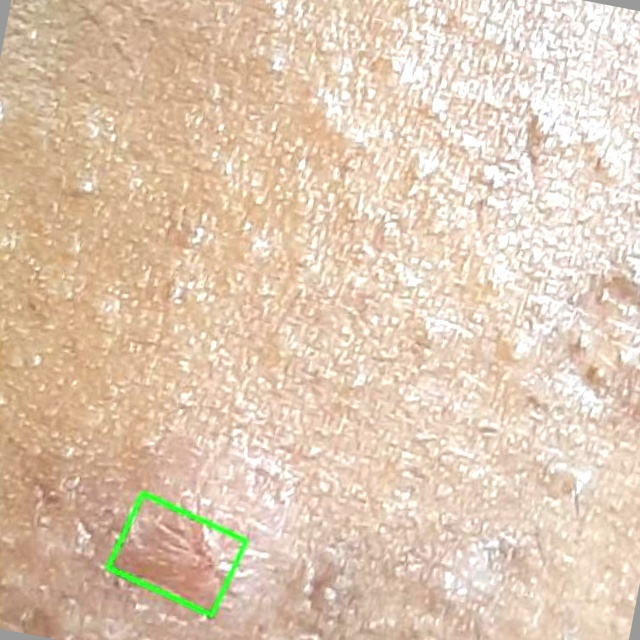Scabies: (107, 493, 245, 615)
